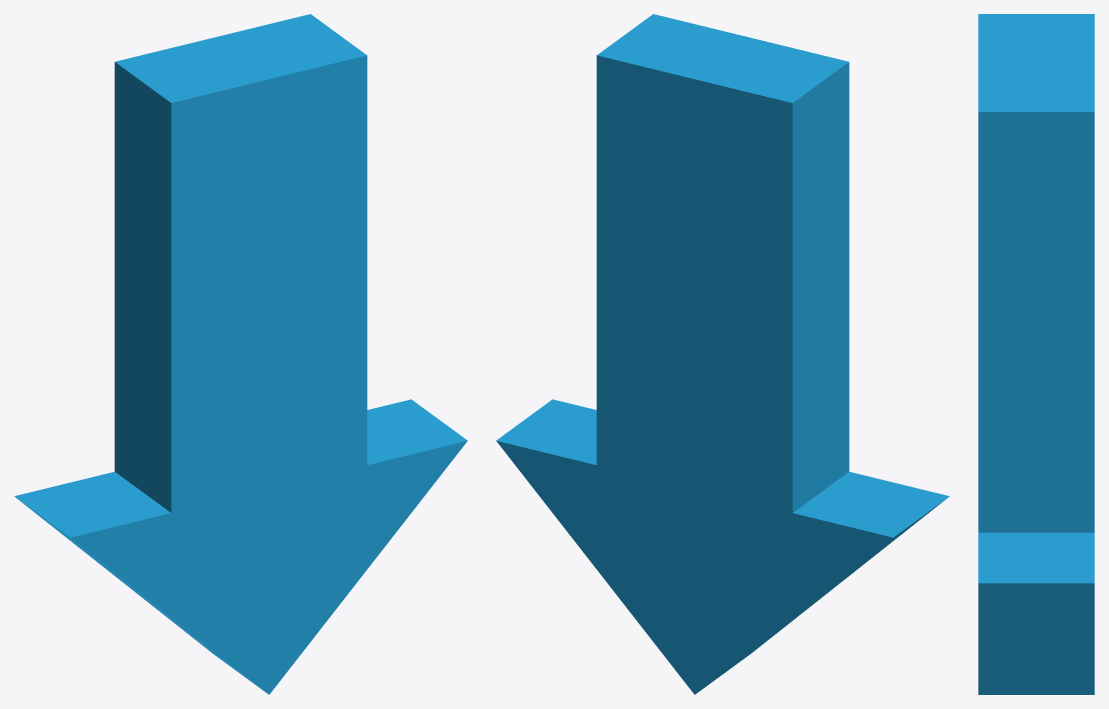
The model's file is level_button.fbx.
The picture shows the model from 3 angles, left to right: view 1: azimuth 30°, elevation 25°; view 2: azimuth 150°, elevation 25°; view 3: azimuth 270°, elevation 25°; orthographic projection. The views are drawn at different scales.
Parts seen in each view (by area): view 1: Plane; view 2: Plane; view 3: Plane.
Part boxes in pixels (bbox=[...]): Plane: bbox=[14, 14, 467, 694]; Plane: bbox=[496, 14, 949, 694]; Plane: bbox=[978, 14, 1094, 694].
Size of the model in its own units: 406 by 601 by 100.
